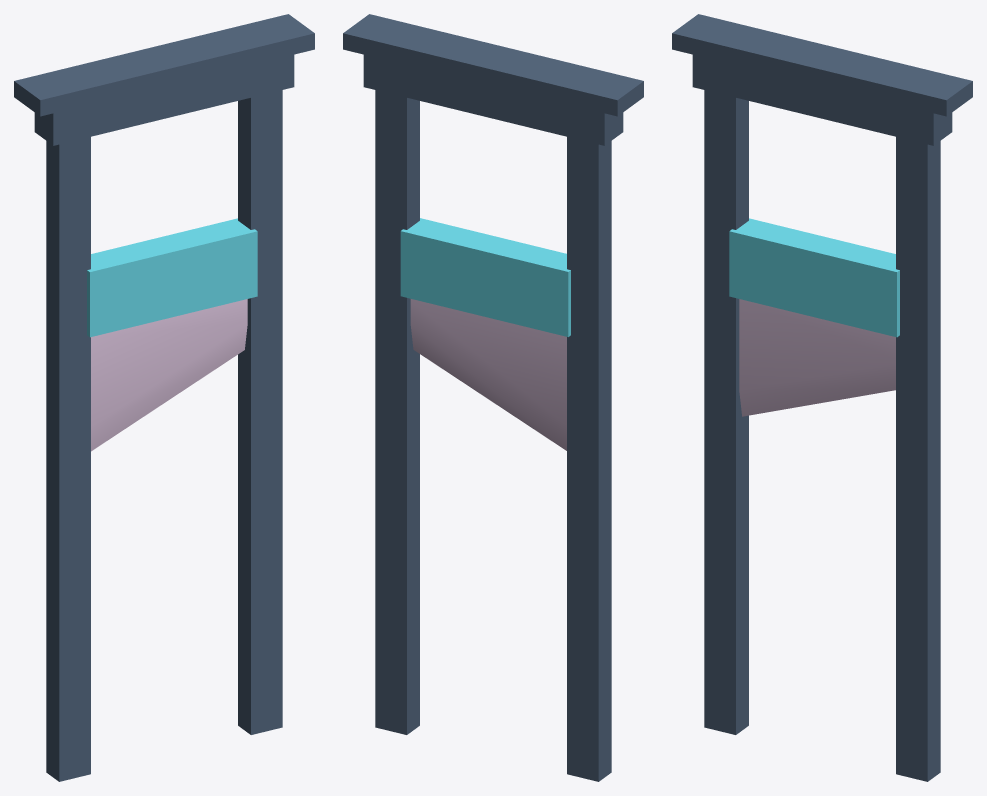
File: Guillotine.fbx
The picture shows the model from 3 angles, left to right: view 1: azimuth 30°, elevation 25°; view 2: azimuth 150°, elevation 25°; view 3: azimuth 330°, elevation 25°; orthographic projection.
Parts seen in each view (by area): view 1: Guillotine_Base, Guillotine_Blade; view 2: Guillotine_Base, Guillotine_Blade; view 3: Guillotine_Base, Guillotine_Blade.
Part boxes in pixels (left/top/right/bottom): Guillotine_Base: left=14, top=14, right=314, bottom=781; Guillotine_Blade: left=87, top=218, right=257, bottom=451; Guillotine_Base: left=343, top=14, right=643, bottom=781; Guillotine_Blade: left=400, top=218, right=570, bottom=450; Guillotine_Base: left=672, top=14, right=972, bottom=781; Guillotine_Blade: left=729, top=218, right=899, bottom=416.
Size of the model in its own units: 174 by 419 by 28.88.
